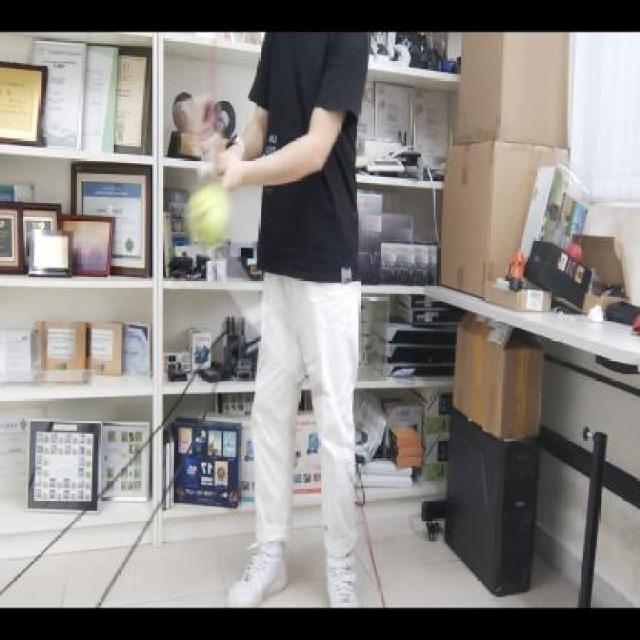baseball: (182, 182, 233, 252)
